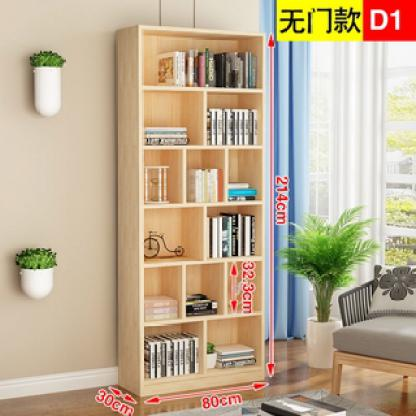lamp: (115, 22, 265, 400)
